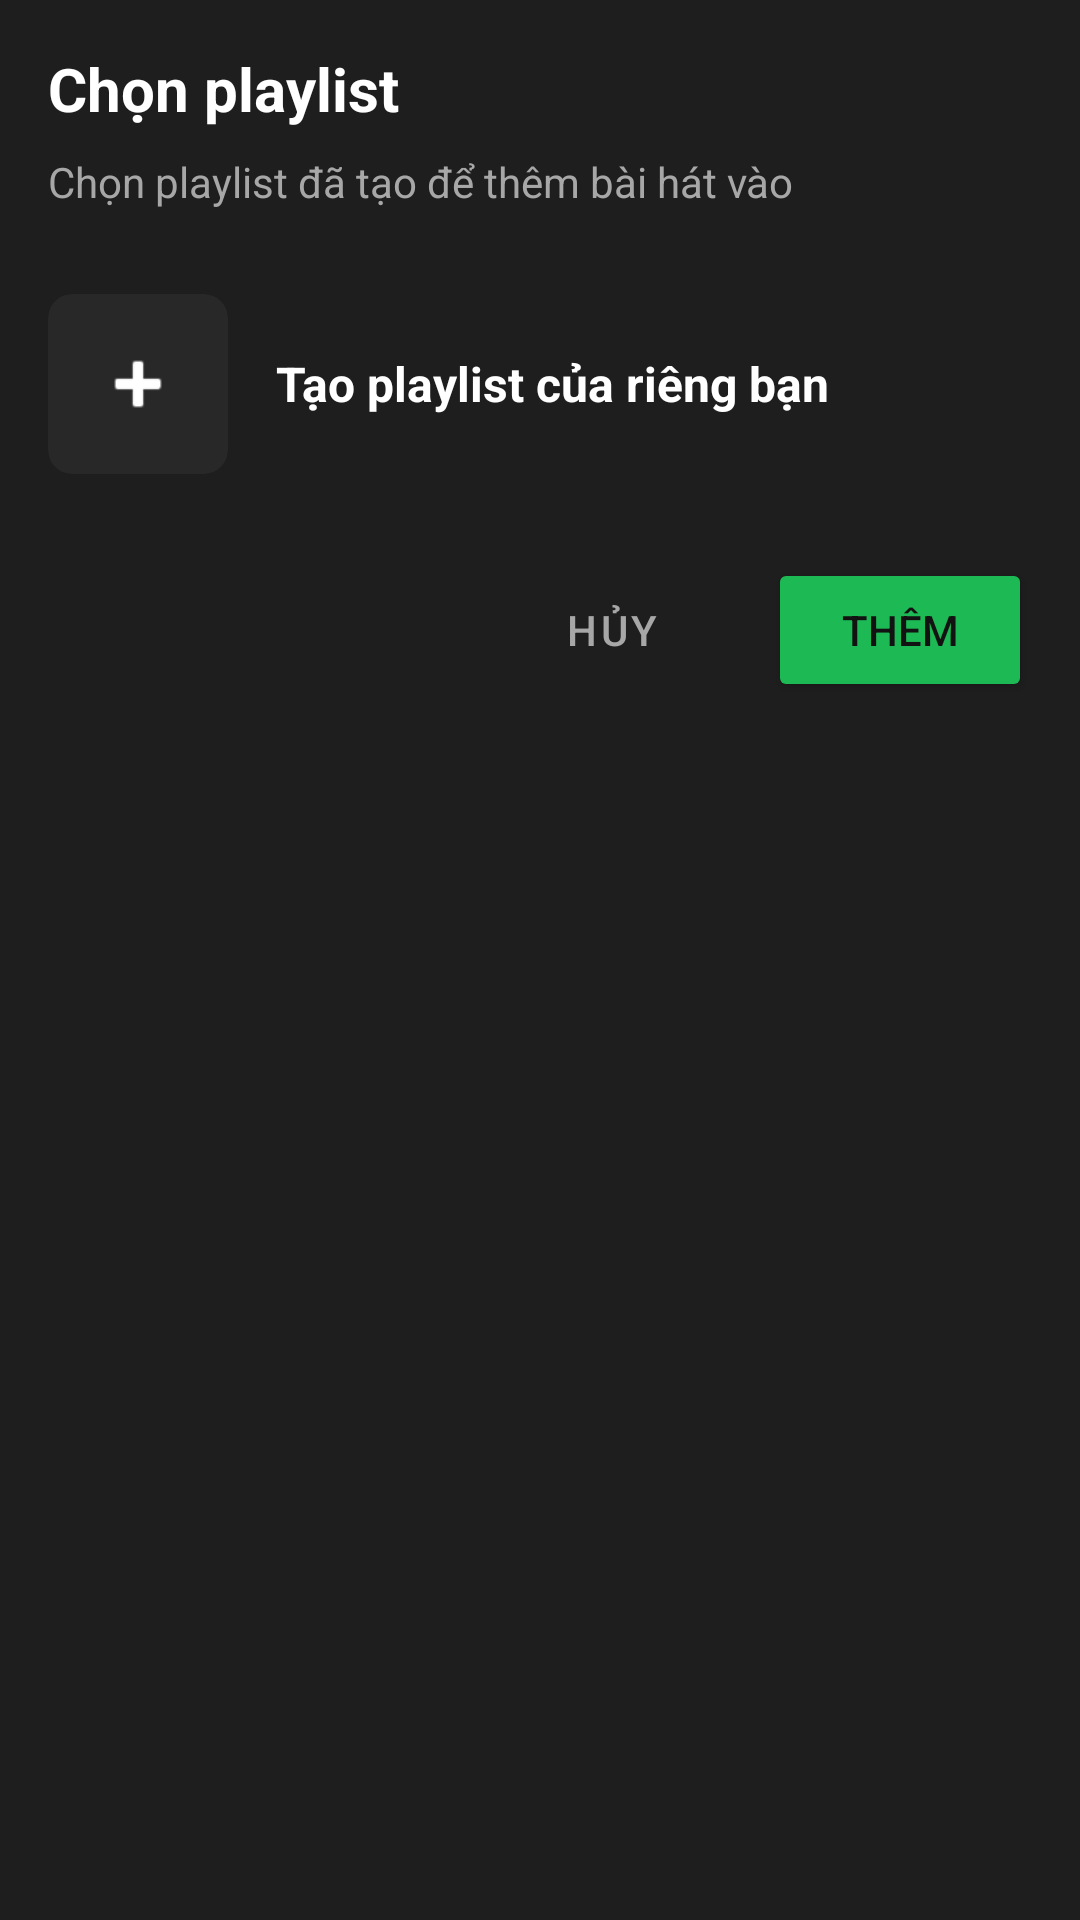

Screen size 1080*1920. Icon name, then its center in pixels as point (x, y):
add: point (138, 384)
